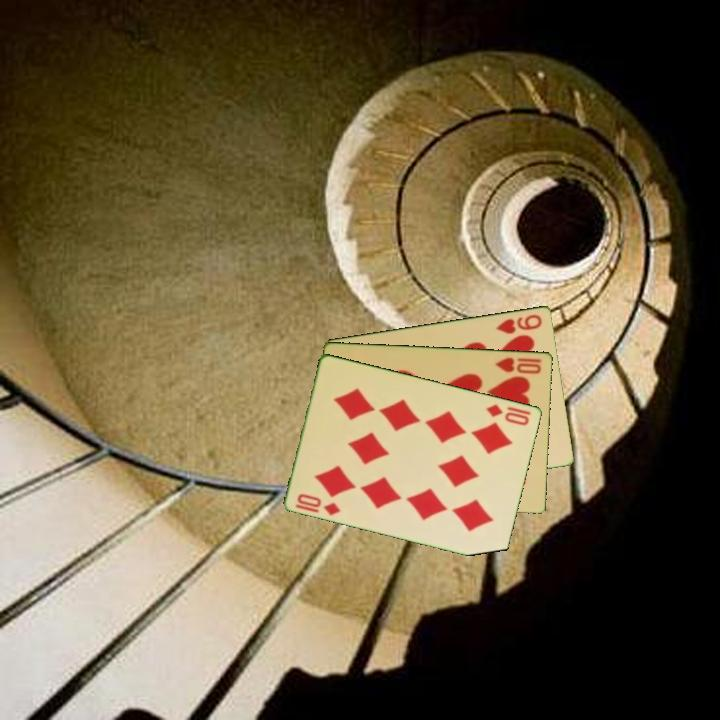10d: (483, 400, 534, 428), (294, 490, 344, 518)
10h: (492, 354, 544, 376)
9h: (493, 310, 545, 336)
